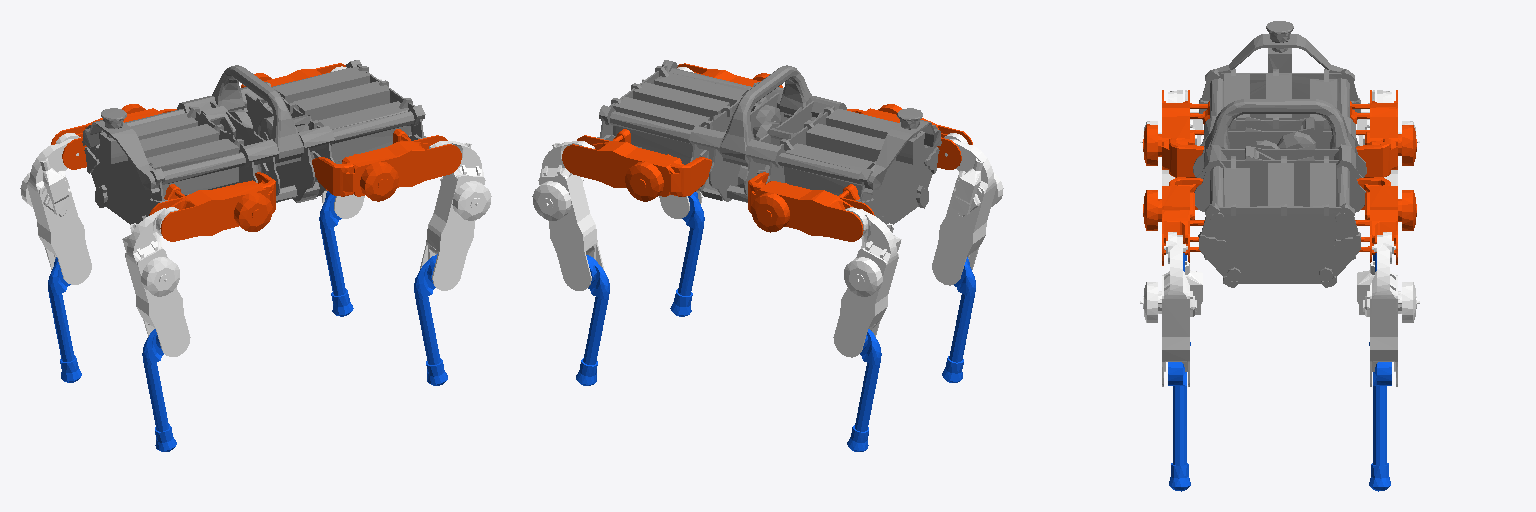
robot.urdf — dyna1:
<?xml version="1.0" encoding="utf-8"?>
<robot name="dyna1">
  <material name="yellow">
    <color rgba="0.1 0.45 1 1"/>
  </material>
  <material name="black">
    <color rgba="0.1 0.1 0.1 1"/>
  </material>
  <material name="grey">
    <color rgba="0.6 0.6 0.6 1"/>
  </material>
  <material name="white">
    <color rgba="1 1 1 1"/>
  </material>
	<material name="orange">
		<color rgba="1 0.35 0.05 1"/>
	</material>

  <link name="world"/>

  <link name="base_link">
    <visual>
      <geometry>
        <mesh filename="package://stl/Body.stl" scale="0.001 0.001 0.001"/>
      </geometry>
      <material name="grey"/>
      <origin rpy="0 0 0" xyz="0 0 0"/>  
    </visual>
    <collision>
      <geometry>
        <box size="0.499 0.247 0.186"/>
      </geometry>
      <origin rpy="0 0 0" xyz="-0.016533 0 0.029372"/>
    </collision>
    <inertial>
      <mass value="3.671"/>
			<origin rpy="0 0 0" xyz="0.00545 0.00008 0.008719"/>
      <inertia ixx="0.01643" ixy="-0.0002367" ixz="0.0025" iyy="0.0535" iyz="-0.0000116384" izz="0.05892"/>
    </inertial>
  </link>

	<joint name="world" type="fixed">
    <parent link="world"/>
    <child link="base_link"/>
  </joint>

  <link name="front_left_shoulder_link">
    <visual>
      <geometry>
        <mesh filename="package://stl/shoulder.stl" scale="0.001 0.001 0.001"/>
      </geometry>
      <origin rpy="0 0 0" xyz="0 0 0"/> 
      <material name="orange"/>
    </visual>
    <collision>
      <geometry>
        <box size="0.059 0.211013 0.118076"/>
      </geometry>
      <origin rpy="0 0 0" xyz="0 -0.080206 0.042257"/>
    </collision>
    <inertial>
      <mass value="0.505084"/>
			<origin rpy="0 0 0" xyz="-0.000225 -0.096893 0.058205"/>
      <inertia ixx="0.001676" ixy="-0.0000000635" ixz="0.0000000616" iyy="0.0004545" iyz="0.0002367" izz="0.001416"/>
    </inertial>
  </link>


  <link name="front_left_arm_link">
    <visual>
      <geometry>
        <mesh filename="package://stl/arm1.stl" scale="0.001 0.001 0.001"/>
      </geometry>
      <origin rpy="0 0 0" xyz="0 0 0"/> 
      <material name="white"/>
    </visual>
    <collision>
      <geometry>
        <box size="0.059 0.228758 0.08244"/>
      </geometry>
      <origin rpy="0 0 0" xyz="0.052 0.0944 0.016025"/>
    </collision>
    <inertial>
      <mass value="0.500063"/>
			<origin rpy="0 0 0" xyz="0.049769 0.079064 0.017355"/>
      <inertia ixx="0.001582" ixy="-0.0000885652" ixz="-0.0000123498" iyy="0.0003877" iyz="0.0001209" izz="0.001477"/>
    </inertial>
  </link>

  <link name="front_left_hand_link">
    <visual>
      <geometry>
        <mesh filename="package://stl/foot1.stl" scale="0.001 0.001 0.001"/>
      </geometry>
      <origin rpy="0 0 0" xyz="0 0 0"/> 
      <material name="yellow"/>
    </visual>
    <collision>
      <geometry>
        <cylinder length="0.138" radius="0.0101"/>
      </geometry>
      <origin rpy="0 1.570796 0" xyz="0.100811 -0.036862 0"/>
    </collision>
    <collision>
      <geometry>
        <cylinder length="0.0202" radius="0.015"/>
      </geometry>
      <origin rpy="0 0 1.570796" xyz="0.171811 -0.036862 0"/>
    </collision>
    <inertial>
      <mass value="0.066814"/>
			<origin rpy="0 0 0" xyz="0.07927 -0.025916 -0.001911"/>
      <inertia ixx="0.0000248634" ixy="0.0000574071" ixz="-0.000010119" iyy="0.0003695" iyz="0.0000032927" izz="0.0003872"/>
    </inertial>
  </link>

  <joint name="base_to_front_left_shoulder" type="revolute">
    <parent link="base_link"/>
    <child link="front_left_shoulder_link"/>
    <axis xyz="0 -1 0"/>
    <origin rpy="-1.57079632679 -1.57079632679 0" xyz="0.2352235 0.0985 0"/>
    <limit effort="100.0" lower="-0.6051" upper="0.6051" velocity="100"/>
    <dynamics damping="0.0" friction="0"/>
  </joint>

  <joint name="front_left_shoulder_to_arm" type="revolute">
    <parent link="front_left_shoulder_link"/>
    <child link="front_left_arm_link"/>
    <axis xyz="0 0 -1"/>
    <origin rpy="0 0 1.84649081579" xyz="0 0 0.0435"/>
    <limit effort="100.0" lower="-1.3135" upper="2.4337" velocity="100"/>
    <dynamics damping="0.0" friction="0"/>
  </joint>

  <joint name="front_left_arm_to_hand" type="revolute">
    <parent link="front_left_arm_link"/>
    <child link="front_left_hand_link"/>
    <axis xyz="0 0 1"/>
    <origin rpy="3.14159265359 0 1.103929191" xyz="0.0519 0.183458 0"/>
    <limit effort="100.0" lower="-0.8515" upper="2.6321" velocity="100"/>
    <dynamics damping="0.0" friction="0"/>
  </joint>

 




  <link name="front_right_shoulder_link">
    <visual>
      <geometry>
        <mesh filename="package://stl/shoulder.stl" scale="0.001 0.001 0.001"/>
      </geometry>
      <origin rpy="0 0 0" xyz="0 0 0"/> 
      <material name="orange"/>
    </visual>
    <collision>
      <geometry>
        <box size="0.059 0.211013 0.118076"/>
      </geometry>
      <origin rpy="0 0 0" xyz="0 -0.080206 0.042257"/>
    </collision>
    <inertial>
      <mass value="0.505084"/>
			<origin rpy="0 0 0" xyz="-0.000225 -0.096893 0.058205"/>
      <inertia ixx="0.001676" ixy="-0.0000000635" ixz="0.0000000616" iyy="0.0004545" iyz="0.0002367" izz="0.001416"/>
    </inertial>
  </link>

  <link name="front_right_arm_link">
    <visual>
      <geometry>
        <mesh filename="package://stl/arm2.stl" scale="0.001 0.001 0.001"/>
      </geometry>
      <origin rpy="0 0 0" xyz="0 0 0"/> 
      <material name="white"/>
    </visual>
    <collision>
      <geometry>
        <box size="0.059 0.228758 0.08244"/>
      </geometry>
      <origin rpy="0 0 0" xyz="-0.052 0.0944 0.016025"/>
    </collision>
    <inertial>
      <mass value="0.500063"/>
			<origin rpy="0 0 0" xyz="-0.049769 0.079064 0.017355"/>
      <inertia ixx="0.001582" ixy="0.000088512" ixz="0.0000124983" iyy="0.0003877" iyz="0.0001209" izz="0.001477"/>
    </inertial>
  </link>

  <link name="front_right_hand_link">
    <visual>
      <geometry>
        <mesh filename="package://stl/foot2.stl" scale="0.001 0.001 0.001"/>
      </geometry>
      <origin rpy="0 0 0" xyz="0 0 0"/> 
      <material name="yellow"/>
    </visual>
    <collision>
      <geometry>
        <cylinder length="0.138" radius="0.0101"/>
      </geometry>
      <origin rpy="0 1.570796 0" xyz="0.100811 -0.036862 0"/>
    </collision>
    <collision>
      <geometry>
        <cylinder length="0.0202" radius="0.015"/>
      </geometry>
      <origin rpy="0 0 1.570796" xyz="0.171811 -0.036862 0"/>
    </collision>
    <inertial>
      <mass value="0.066814"/>
			<origin rpy="0 0 0" xyz="0.07927 -0.025916 0.001911"/>
      <inertia ixx="0.0000248576" ixy="0.0000574076" ixz="0.0000101035" iyy="0.0003695" iyz="-0.0000032878" izz="0.0003872"/>
    </inertial>
  </link>

  <joint name="base_to_front_right_shoulder" type="revolute">
    <parent link="base_link"/>
    <child link="front_right_shoulder_link"/>
    <axis xyz="0 -1 0"/>
    <origin rpy="0 1.57079632679 -1.57079632679" xyz="0.2352235 -0.0985 0"/>
    <limit effort="100.0" lower="-0.6051" upper="0.6051" velocity="100"/>
    <dynamics damping="0.0" friction="0"/>
  </joint>

  <joint name="front_right_shoulder_to_arm" type="revolute">
    <parent link="front_right_shoulder_link"/>
    <child link="front_right_arm_link"/>
    <axis xyz="0 0 1"/>
    <origin rpy="0 0 -1.84649081579" xyz="0 0 0.0435"/>
    <limit effort="100.0" lower="-1.3135" upper="2.4337" velocity="100"/>
    <dynamics damping="0.0" friction="0"/>
  </joint>

  <joint name="front_right_arm_to_hand" type="revolute">
    <parent link="front_right_arm_link"/>
    <child link="front_right_hand_link"/>
    <axis xyz="0 0 1"/>
    <origin rpy="0 0 2.03766346259" xyz="-0.0519 0.183458 0"/>
    <limit effort="100.0" lower="-0.8515" upper="2.6321" velocity="100"/>
    <dynamics damping="0.0" friction="0"/>
  </joint>





  <link name="back_left_shoulder_link">
    <visual>
      <geometry>
        <mesh filename="package://stl/shoulder.stl" scale="0.001 0.001 0.001"/>
      </geometry>
      <origin rpy="0 0 0" xyz="0 0 0"/> 
      <material name="orange"/>
    </visual>
    <collision>
      <geometry>
        <box size="0.059 0.211013 0.118076"/>
      </geometry>
      <origin rpy="0 0 0" xyz="0 -0.080206 0.042257"/>
    </collision>
    <inertial>
      <mass value="0.505084"/>
			<origin rpy="0 0 0" xyz="-0.000225 -0.096893 0.058205"/>
      <inertia ixx="0.001676" ixy="-0.0000000635" ixz="0.0000000616" iyy="0.0004545" iyz="0.0002367" izz="0.001416"/>
    </inertial>
  </link>

  <link name="back_left_arm_link">
    <visual>
      <geometry>
        <mesh filename="package://stl/arm2.stl" scale="0.001 0.001 0.001"/>
      </geometry>
      <origin rpy="0 0 0" xyz="0 0 0"/> 
      <material name="white"/>
    </visual>
    <collision>
      <geometry>
        <box size="0.059 0.228758 0.08244"/>
      </geometry>
      <origin rpy="0 0 0" xyz="-0.052 0.0944 0.016025"/>
    </collision>
    <inertial>
      <mass value="0.500063"/>
			<origin rpy="0 0 0" xyz="-0.049769 0.079064 0.017355"/>
      <inertia ixx="0.001582" ixy="0.000088512" ixz="0.0000124983" iyy="0.0003877" iyz="0.0001209" izz="0.001477"/>
    </inertial>
  </link>

  <link name="back_left_hand_link">
    <visual>
      <geometry>
        <mesh filename="package://stl/foot1.stl" scale="0.001 0.001 0.001"/>
      </geometry>
      <origin rpy="0 0 0" xyz="0 0 0"/> 
      <material name="yellow"/>
    </visual>
    <collision>
      <geometry>
        <cylinder length="0.138" radius="0.0101"/>
      </geometry>
      <origin rpy="0 1.570796 0" xyz="0.100811 -0.036862 0"/>
    </collision>
    <collision>
      <geometry>
        <cylinder length="0.0202" radius="0.015"/>
      </geometry>
      <origin rpy="0 0 1.570796" xyz="0.171811 -0.036862 0"/>
    </collision>
    <inertial>
      <mass value="0.066814"/>
			<origin rpy="0 0 0" xyz="0.07927 -0.025916 0.001911"/>
      <inertia ixx="0.0000248576" ixy="0.0000574076" ixz="0.0000101035" iyy="0.0003695" iyz="-0.0000032878" izz="0.0003872"/>
    </inertial>
  </link>

  <joint name="base_to_back_left_shoulder" type="revolute">
    <parent link="base_link"/>
    <child link="back_left_shoulder_link"/>
    <axis xyz="0 1 0"/>
    <origin rpy="0 1.57079632679 1.57079632679" xyz="-0.2352235 0.0985 0"/>
    <limit effort="100.0" lower="-0.6051" upper="0.6051" velocity="100"/>
    <dynamics damping="0.0" friction="0"/>
  </joint>

  <joint name="back_left_shoulder_to_arm" type="revolute">
    <parent link="back_left_shoulder_link"/>
    <child link="back_left_arm_link"/>
    <axis xyz="0 0 -1"/>
    <origin rpy="0 0 -1.84649081579" xyz="0 0 0.0435"/>
    <limit effort="100.0" lower="-2.4337" upper="1.3135" velocity="100"/>
    <dynamics damping="0.0" friction="0"/>
  </joint>

  <joint name="back_left_arm_to_hand" type="revolute">
    <parent link="back_left_arm_link"/>
    <child link="back_left_hand_link"/>
    <axis xyz="0 0 1"/>
    <origin rpy="3.14159265359 0 1.655318169" xyz="-0.0519 0.183458 0"/>
    <limit effort="100.0" lower="-0.30696" upper="3.17664" velocity="100"/>
    <dynamics damping="0.0" friction="0"/>
  </joint>



  <link name="back_right_shoulder_link">
    <visual>
      <geometry>
        <mesh filename="package://stl/shoulder.stl" scale="0.001 0.001 0.001"/>
      </geometry>
      <origin rpy="0 0 0" xyz="0 0 0"/> 
      <material name="orange"/>
    </visual>
    <collision>
      <geometry>
        <box size="0.059 0.211013 0.118076"/>
      </geometry>
      <origin rpy="0 0 0" xyz="0 -0.080206 0.042257"/>
    </collision>
    <inertial>
      <mass value="0.505084"/>
			<origin rpy="0 0 0" xyz="-0.000225 -0.096893 0.058205"/>
      <inertia ixx="0.001676" ixy="-0.0000000635" ixz="0.0000000616" iyy="0.0004545" iyz="0.0002367" izz="0.001416"/>
    </inertial>
  </link>

  <link name="back_right_arm_link">
    <visual>
      <geometry>
        <mesh filename="package://stl/arm1.stl" scale="0.001 0.001 0.001"/>
      </geometry>
      <origin rpy="0 0 0" xyz="0 0 0"/> 
      <material name="white"/>
    </visual>
    <collision>
      <geometry>
        <box size="0.059 0.228758 0.08244"/>
      </geometry>
      <origin rpy="0 0 0" xyz="0.052 0.0944 0.016025"/>
    </collision>
    <inertial>
      <mass value="0.500063"/>
			<origin rpy="0 0 0" xyz="0.049769 0.079064 0.017355"/>
      <inertia ixx="0.001582" ixy="-0.0000885652" ixz="-0.0000123498" iyy="0.0003877" iyz="0.0001209" izz="0.001477"/>
    </inertial>
  </link>

  <link name="back_right_hand_link">
    <visual>
      <geometry>
        <mesh filename="package://stl/foot2.stl" scale="0.001 0.001 0.001"/>
      </geometry>
      <origin rpy="0 0 0" xyz="0 0 0"/> 
      <material name="yellow"/>
    </visual>
    <collision>
      <geometry>
        <cylinder length="0.138" radius="0.0101"/>
      </geometry>
      <origin rpy="0 1.570796 0" xyz="0.100811 -0.036862 0"/>
    </collision>
    <collision>
      <geometry>
        <cylinder length="0.0202" radius="0.015"/>
      </geometry>
      <origin rpy="0 0 1.570796" xyz="0.171811 -0.036862 0"/>
    </collision>
    <inertial>
      <mass value="0.066814"/>
			<origin rpy="0 0 0" xyz="0.07927 -0.025916 0.001911"/>
      <inertia ixx="0.0000248576" ixy="0.0000574076" ixz="0.0000101035" iyy="0.0003695" iyz="-0.0000032878" izz="0.0003872"/>
    </inertial>
  </link>

  <joint name="base_to_back_right_shoulder" type="revolute">
    <parent link="base_link"/>
    <child link="back_right_shoulder_link"/>
    <axis xyz="0 1 0"/>
    <origin rpy="0 -1.57079632679 1.57079632679" xyz="-0.2352235 -0.0985 0"/>
    <limit effort="100.0" lower="-0.6051" upper="0.6051" velocity="100"/>
    <dynamics damping="0.0" friction="0"/>
  </joint>

  <joint name="back_right_shoulder_to_arm" type="revolute">
    <parent link="back_right_shoulder_link"/>
    <child link="back_right_arm_link"/>
    <axis xyz="0 0 1"/>
    <origin rpy="0 0 1.84649081579" xyz="0 0 0.0435"/>
    <limit effort="100.0" lower="-2.4337" upper="1.3135" velocity="100"/>
    <dynamics damping="0.0" friction="0"/>
  </joint>

  <joint name="back_right_arm_to_hand" type="revolute">
    <parent link="back_right_arm_link"/>
    <child link="back_right_hand_link"/>
    <axis xyz="0 0 1"/>
    <origin rpy="0 0 1.48627448459" xyz="0.0519 0.183458 0"/>
    <limit effort="100.0" lower="-0.30696" upper="3.17664" velocity="100"/>
    <dynamics damping="0.0" friction="0"/>
  </joint>


</robot>

--- What the picture shows (computed from the rendered views, not written in the file) ---
Views: 3 orthographic renders of the robot side by side, from view 1: azimuth 30°, elevation 25°; view 2: azimuth 150°, elevation 25°; view 3: azimuth 270°, elevation 25°.
Model dyna1 with 14 links and 13 joints (12 revolute, 1 fixed), rooted at world, posed all joints at 0.
Visible links, largest first — view 1: base_link, front_right_shoulder_link, front_right_arm_link, back_right_arm_link, back_left_arm_link, back_right_shoulder_link, front_right_hand_link, front_left_hand_link, back_right_hand_link, back_left_hand_link, back_left_shoulder_link, front_left_shoulder_link (+1 smaller); view 2: base_link, front_left_shoulder_link, front_left_arm_link, back_left_arm_link, back_right_arm_link, back_left_shoulder_link, front_left_hand_link, front_right_hand_link, back_left_hand_link, back_right_hand_link, back_right_shoulder_link, front_right_arm_link (+1 smaller); view 3: base_link, front_left_arm_link, front_right_arm_link, back_right_shoulder_link, back_left_shoulder_link, front_left_shoulder_link, front_right_shoulder_link, front_left_hand_link, front_right_hand_link, back_left_arm_link, back_right_arm_link.
Link boxes in pixels (box(x1,y1,x2,y2)): base_link: box(82, 60, 426, 224); front_right_shoulder_link: box(312, 129, 461, 201); front_right_arm_link: box(420, 141, 491, 290); back_right_arm_link: box(122, 207, 190, 356); back_left_arm_link: box(20, 133, 91, 284); back_right_shoulder_link: box(149, 172, 275, 241); front_right_hand_link: box(414, 254, 447, 385); front_left_hand_link: box(319, 191, 353, 316); back_right_hand_link: box(142, 329, 176, 451); back_left_hand_link: box(48, 257, 81, 382); back_left_shoulder_link: box(51, 104, 176, 169); front_left_shoulder_link: box(241, 63, 345, 87); base_link: box(597, 60, 941, 224); front_left_shoulder_link: box(562, 129, 711, 201); front_left_arm_link: box(532, 141, 603, 290); back_left_arm_link: box(833, 207, 901, 357); back_right_arm_link: box(932, 133, 1003, 285); back_left_shoulder_link: box(748, 172, 874, 241); front_left_hand_link: box(576, 255, 609, 385); front_right_hand_link: box(670, 192, 704, 316); back_left_hand_link: box(847, 329, 881, 451); back_right_hand_link: box(942, 257, 975, 382); back_right_shoulder_link: box(847, 104, 972, 169); front_right_arm_link: box(642, 67, 702, 218); base_link: box(1193, 21, 1366, 287); front_left_arm_link: box(1357, 232, 1419, 386); front_right_arm_link: box(1140, 232, 1202, 386); back_right_shoulder_link: box(1143, 90, 1209, 177); back_left_shoulder_link: box(1350, 90, 1416, 177); front_left_shoulder_link: box(1355, 177, 1416, 264); front_right_shoulder_link: box(1143, 177, 1204, 265); front_left_hand_link: box(1369, 362, 1391, 491); front_right_hand_link: box(1168, 362, 1190, 491); back_left_arm_link: box(1357, 90, 1419, 185); back_right_arm_link: box(1140, 90, 1202, 185).
Size in the robot's own frame: 0.6053 by 0.3985 by 0.5039 metres.
13 mesh visuals loaded from 6 distinct referenced files (6 binary STL).